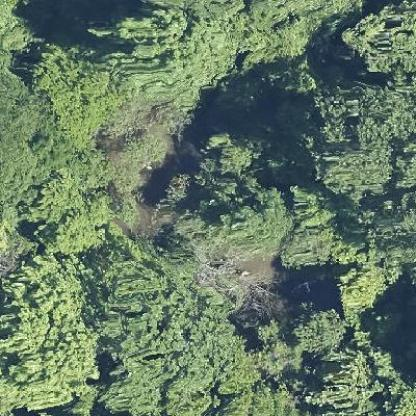tree-top: (10, 252, 90, 378), (30, 43, 127, 139), (196, 130, 276, 201), (290, 302, 351, 354)
